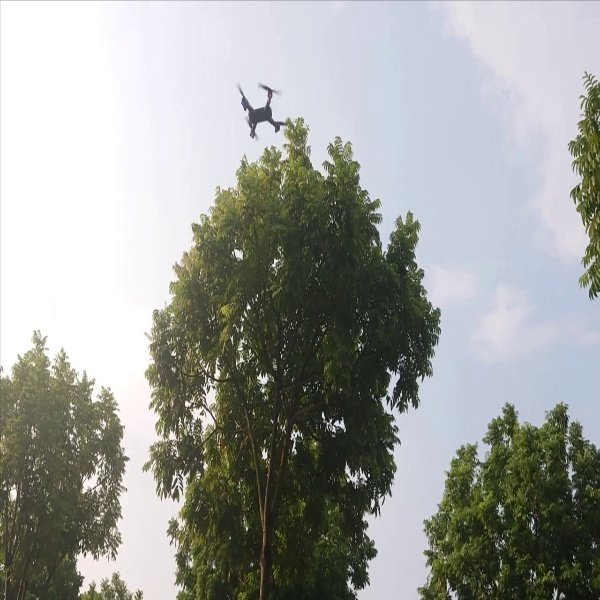drone: (233, 74, 299, 140)
